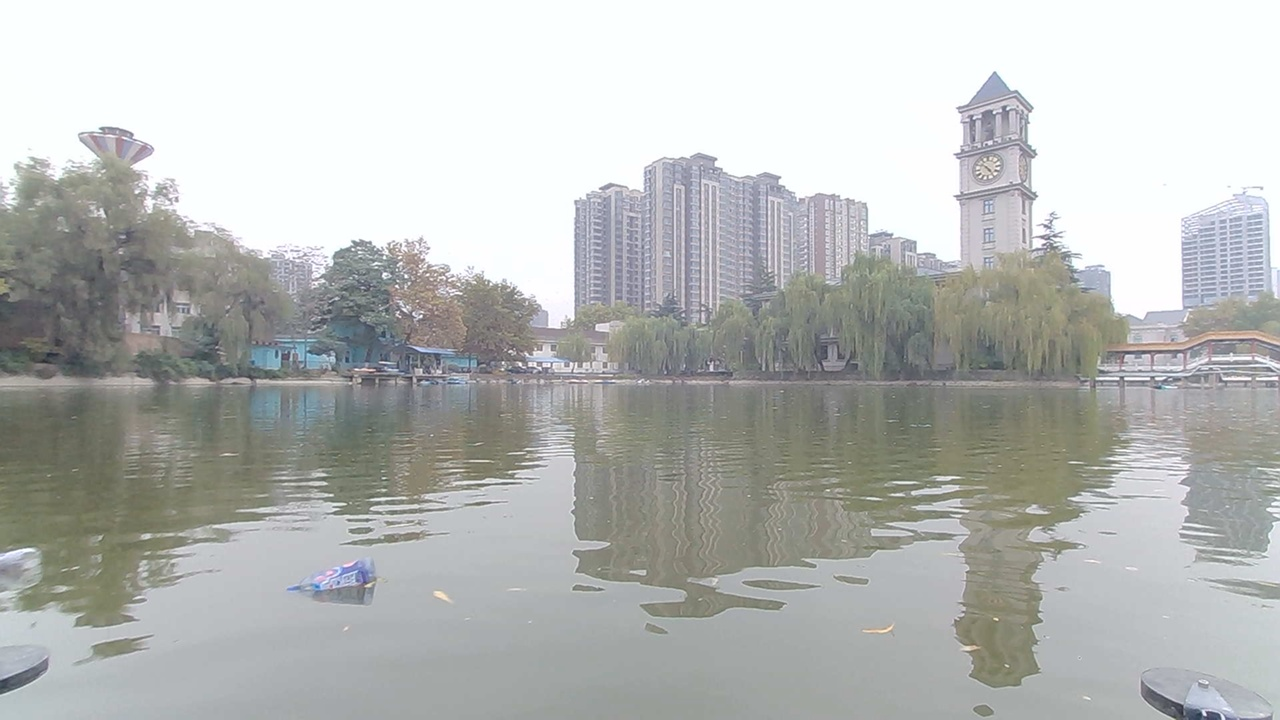bottle: (294, 548, 385, 606)
